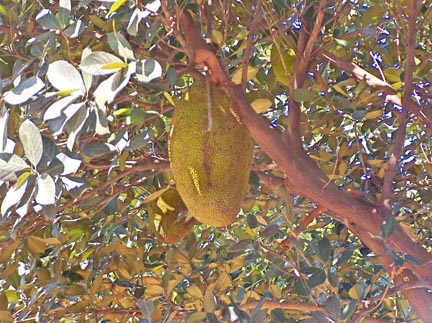jackfruit: (167, 80, 254, 224), (148, 186, 191, 245)
